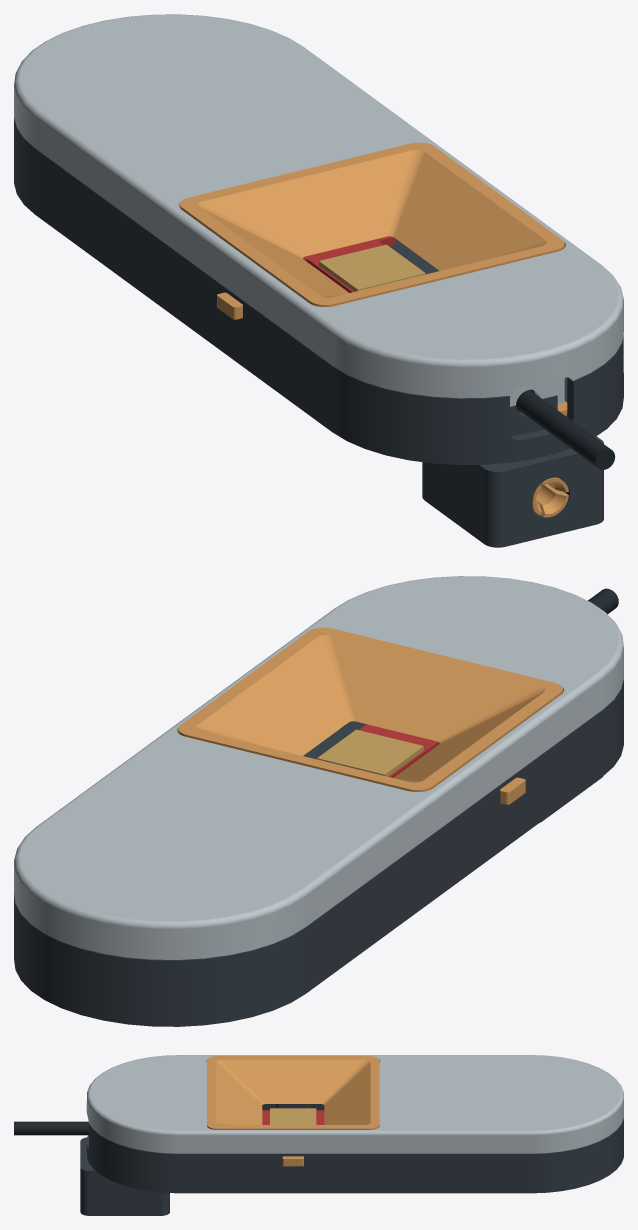
Rendered from assembly_with_references.glb.
3 renders of one model, top to bottom at view 1: azimuth 30°, elevation 25°; view 2: azimuth 150°, elevation 25°; view 3: azimuth 270°, elevation 25°, orthographic. The views are drawn at different scales.
Parts seen in each view (by area): view 1: v2_sliding_open_front, v2_rear_flat_back, v2_removable_flared_aperture_shroud, v2_detachable_stand_heel, reference_board_not_printable/ref_U2, ref_straight_USB_boot_11x20x6_cable_4p4, v2_socket_4p50_nominal, reference_board_not_printable/pcb_PROC091G; view 2: v2_sliding_open_front, v2_rear_flat_back, v2_removable_flared_aperture_shroud, reference_board_not_printable/ref_U2, reference_board_not_printable/pcb_PROC091G; view 3: v2_sliding_open_front, v2_rear_flat_back, v2_removable_flared_aperture_shroud, v2_detachable_stand_heel, ref_straight_USB_boot_11x20x6_cable_4p4, reference_board_not_printable/ref_U2, reference_board_not_printable/pcb_PROC091G.
Part boxes in pixels (x1,y1,x2,y2): v2_sliding_open_front: (14,14,623,406); v2_rear_flat_back: (14,117,623,464); v2_removable_flared_aperture_shroud: (180,142,564,306); v2_detachable_stand_heel: (422,436,603,547); reference_board_not_printable/ref_U2: (319,244,425,291); ref_straight_USB_boot_11x20x6_cable_4p4: (515,389,615,469); v2_socket_4p50_nominal: (532,477,568,517); reference_board_not_printable/pcb_PROC091G: (303,236,395,292); v2_sliding_open_front: (14,576,623,959); v2_rear_flat_back: (14,679,623,1026); v2_removable_flared_aperture_shroud: (178,627,562,791); reference_board_not_printable/ref_U2: (317,729,423,776); reference_board_not_printable/pcb_PROC091G: (359,724,439,777); v2_sliding_open_front: (86,1055,623,1153); v2_rear_flat_back: (86,1104,623,1193); v2_removable_flared_aperture_shroud: (207,1056,379,1129); v2_detachable_stand_heel: (80,1137,169,1215); ref_straight_USB_boot_11x20x6_cable_4p4: (14,1121,88,1135); reference_board_not_printable/ref_U2: (270,1108,316,1124); reference_board_not_printable/pcb_PROC091G: (262,1110,324,1124).
Bounding box in the file's own units: 0.0648 × 0.0381 × 0.1974.
